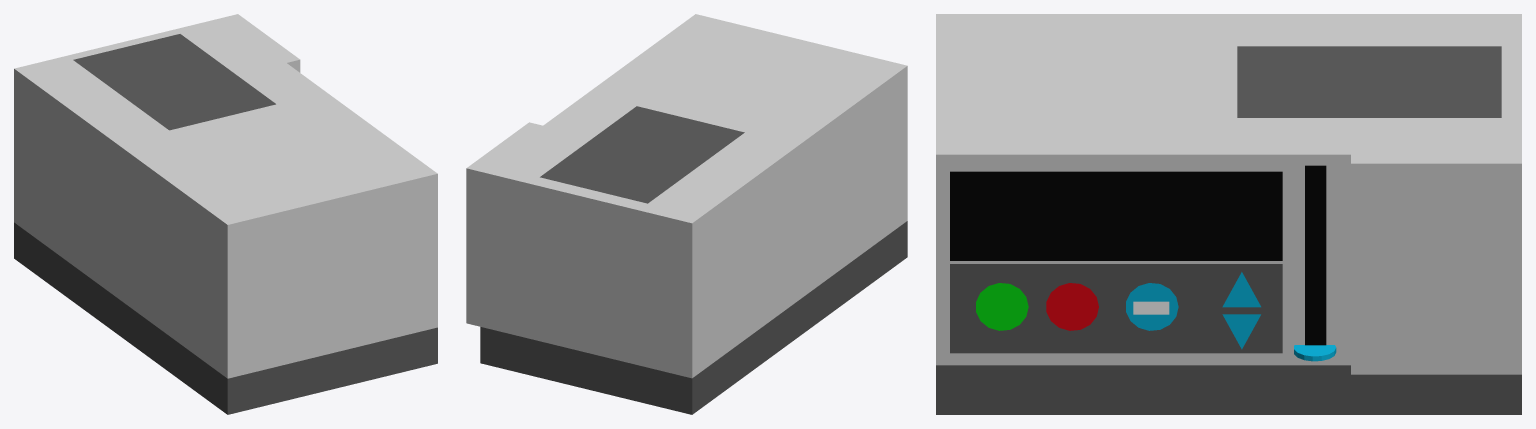
File: DialysisMachineV2.fbx
3 views of the same model, side by side, from view 1: azimuth 30°, elevation 25°; view 2: azimuth 150°, elevation 25°; view 3: azimuth 270°, elevation 25° (orthographic). The views are drawn at different scales.
Parts seen in each view (by area): view 1: Cube; view 2: Cube; view 3: Cube.
Boxes of the visible parts, x1=… form: Cube: x1=14, y1=14, x2=437, y2=414; Cube: x1=466, y1=14, x2=907, y2=414; Cube: x1=936, y1=14, x2=1521, y2=414.
Bounding box in the file's own units: 403 × 324 × 655.
